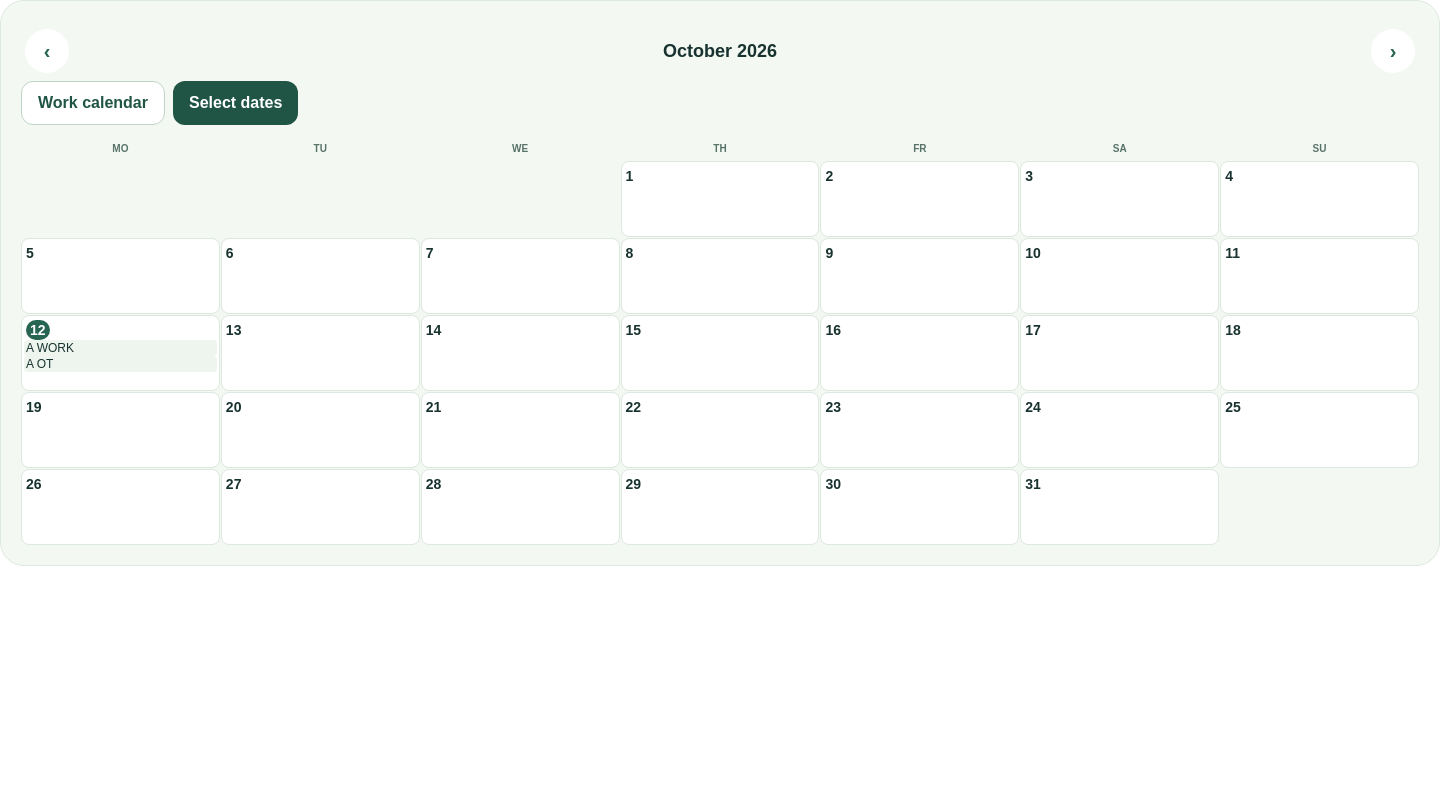
Test: event UI › allows only participants to select dates, toggle aria-pressed, clear and cancel
What coordinates should you click on to do the following:
click the button "Select dates"
I would click on:
 (236, 103)
Its box is [173, 81, 298, 125].
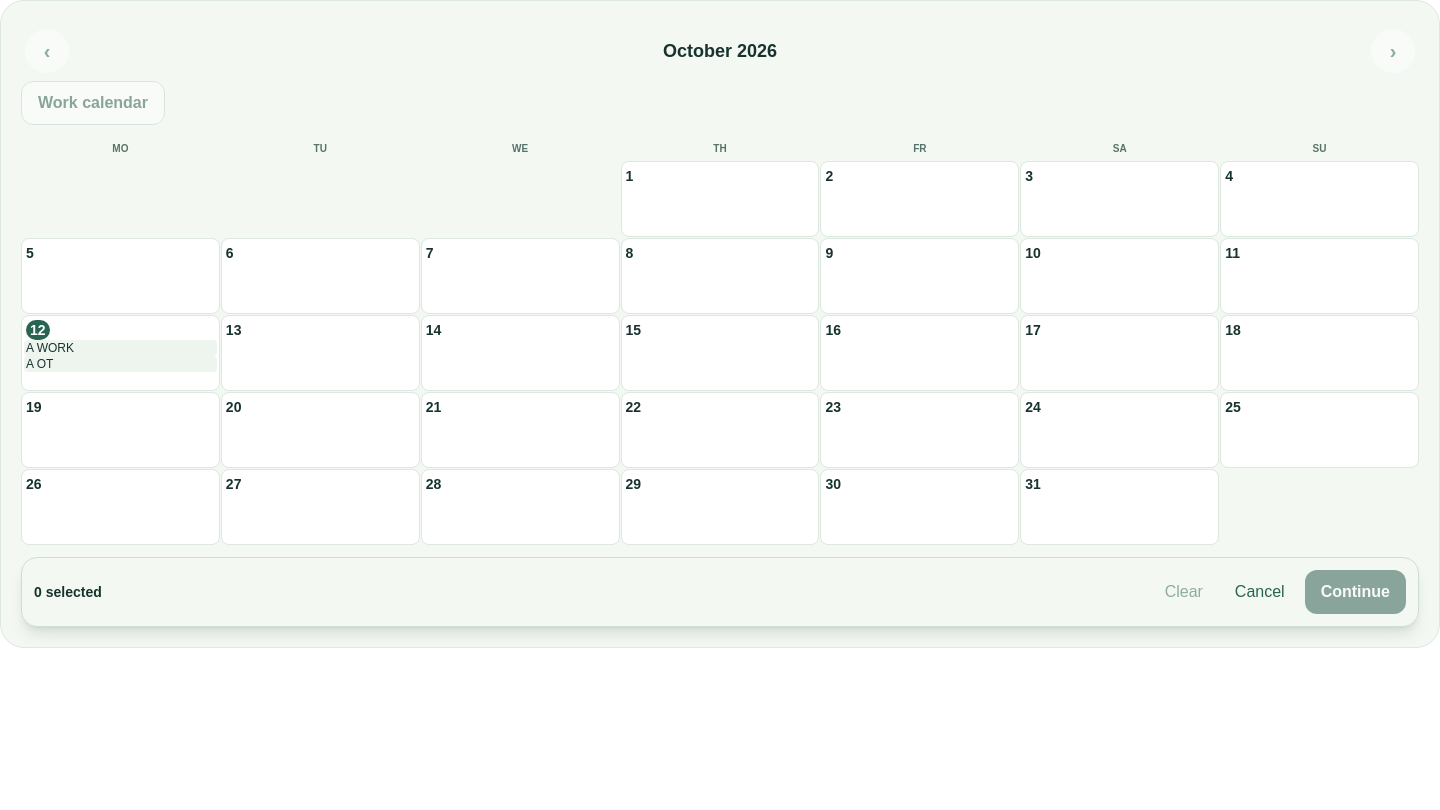
Expected: the button named "Next month" is disabled, [1371, 29, 1415, 73]
What coordinates should you click on to do the following:
click the button with aria-label "Select October 12, 2026"
I would click on:
 (120, 353)
Its box is [21, 315, 220, 391].
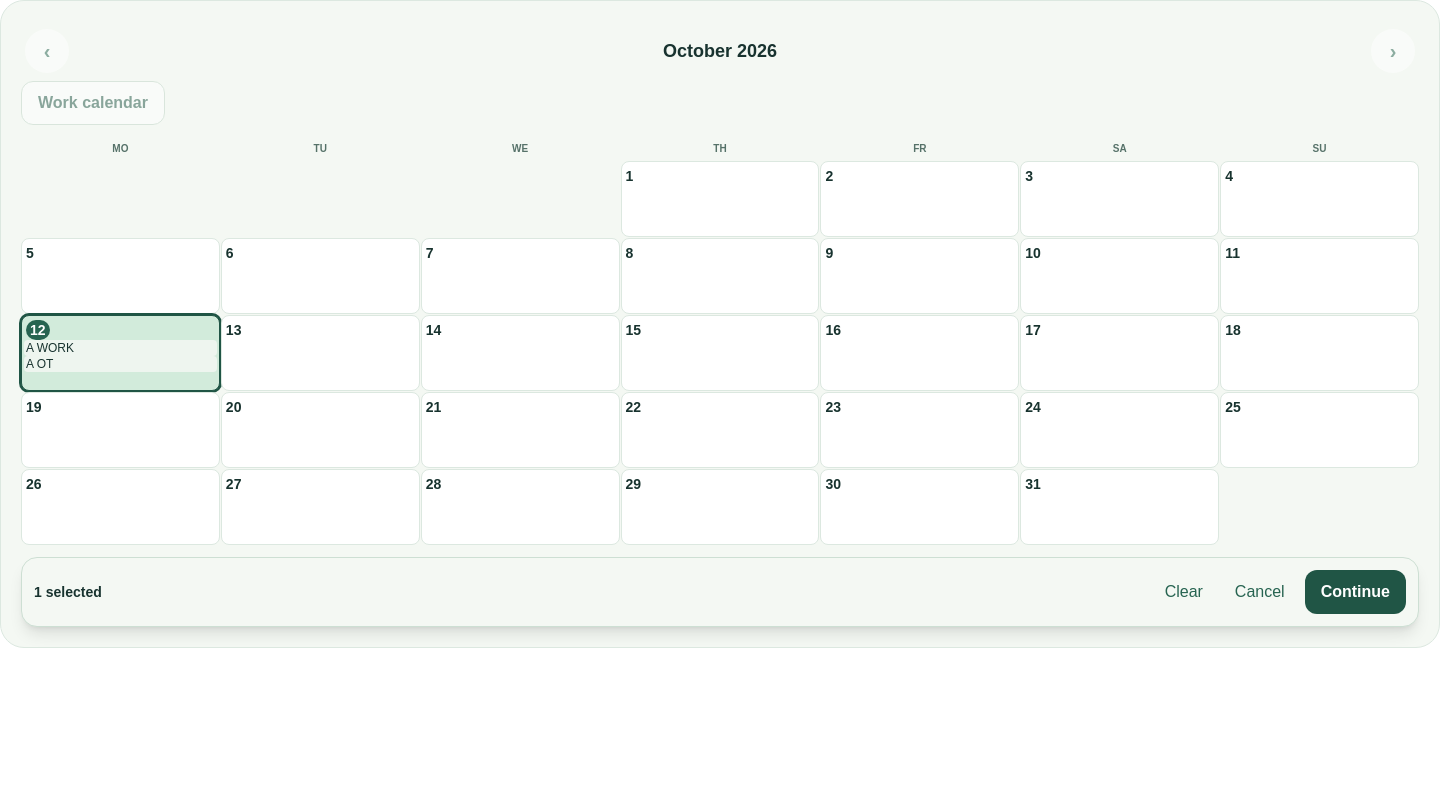
Expected: the button with aria-label "Select October 12, 2026" is pressed
What coordinates should you click on to do the following:
click the button with aria-label "Select October 12, 2026"
I would click on:
 (120, 353)
Its box is [21, 315, 220, 391].
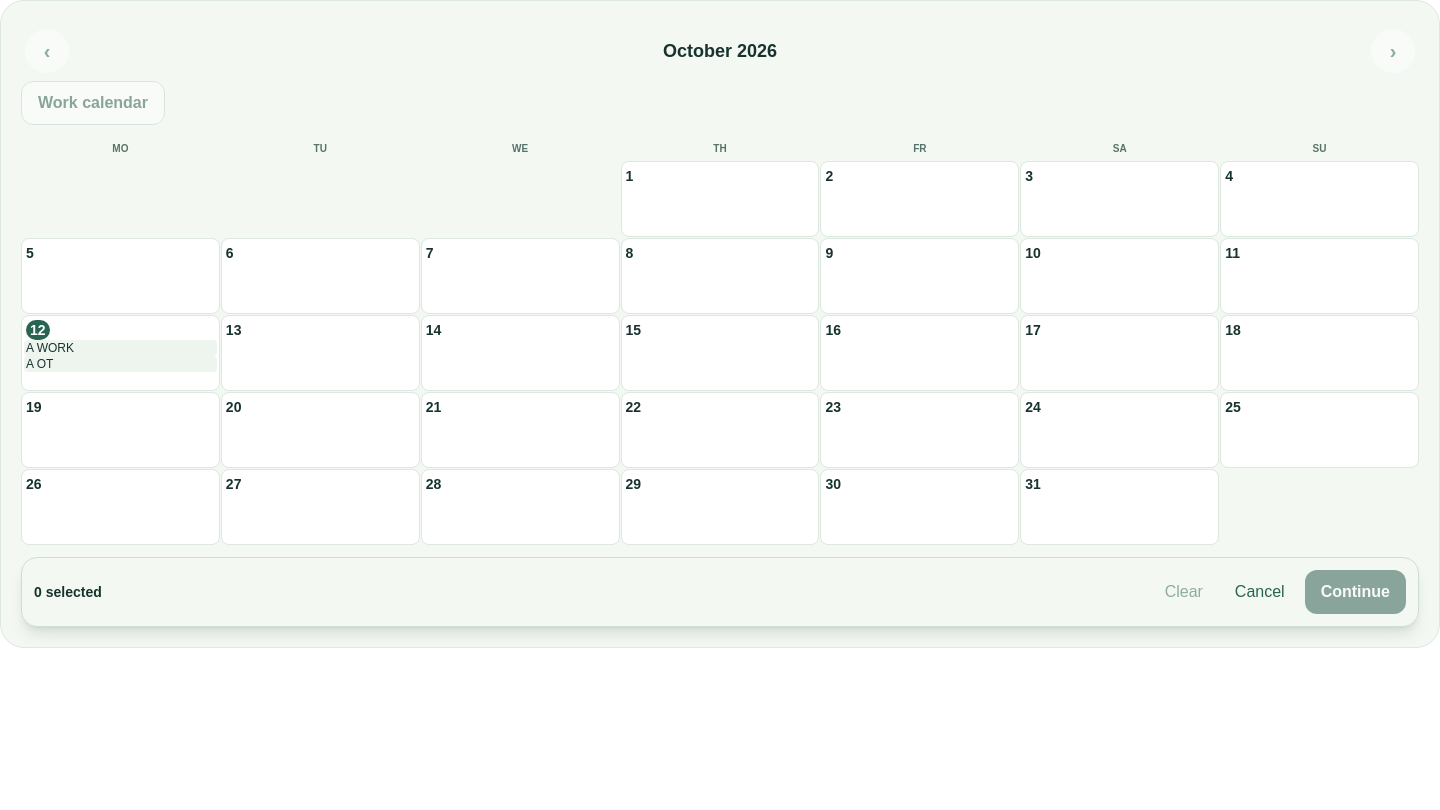
Expected: the button with aria-label "Select October 12, 2026" is not pressed
What coordinates should you click on to do the following:
click the button with aria-label "Select October 12, 2026"
I would click on:
 (120, 353)
Its box is [21, 315, 220, 391].
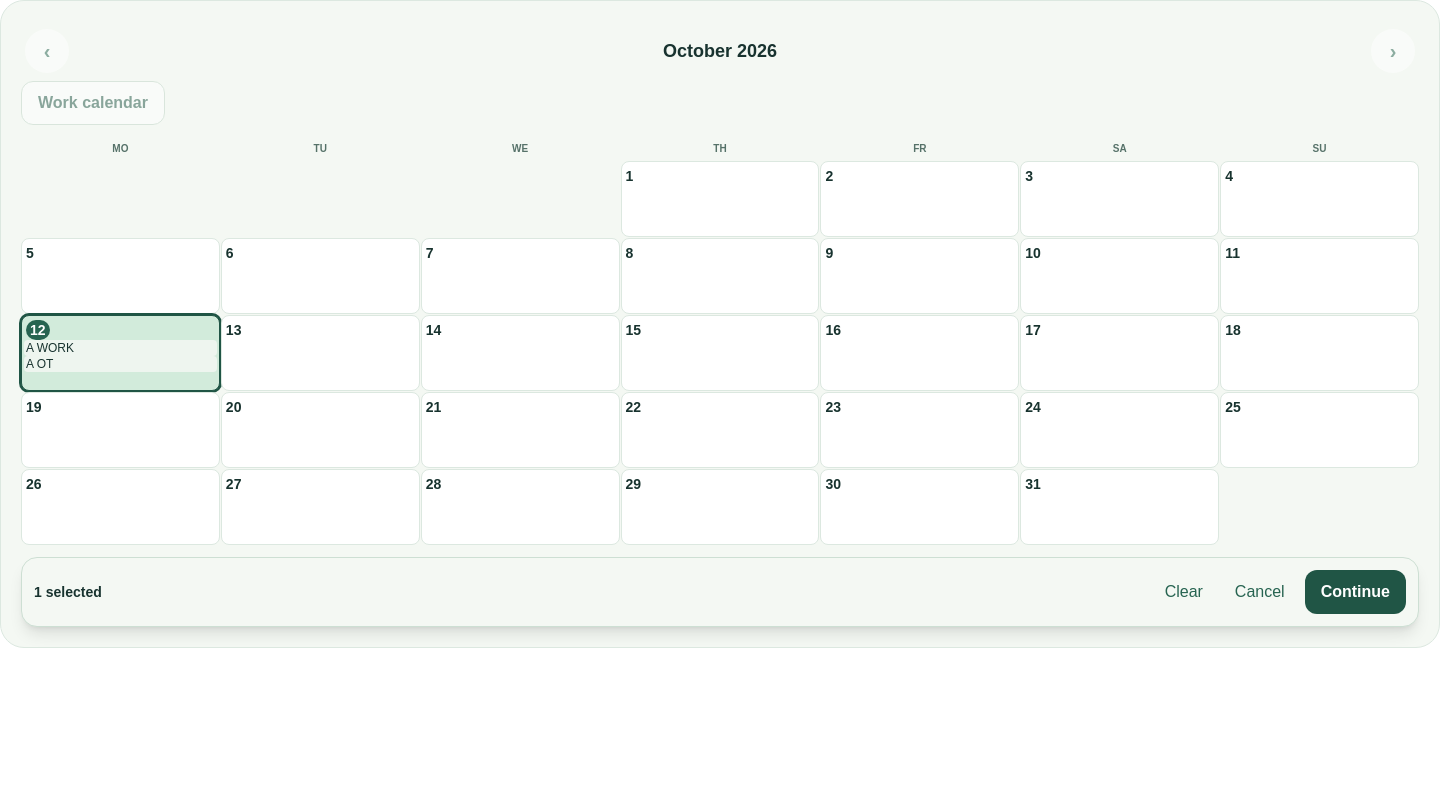
What coordinates should you click on to do the following:
click the button "Clear"
I would click on:
 (1184, 592)
Its box is [1153, 570, 1215, 614].
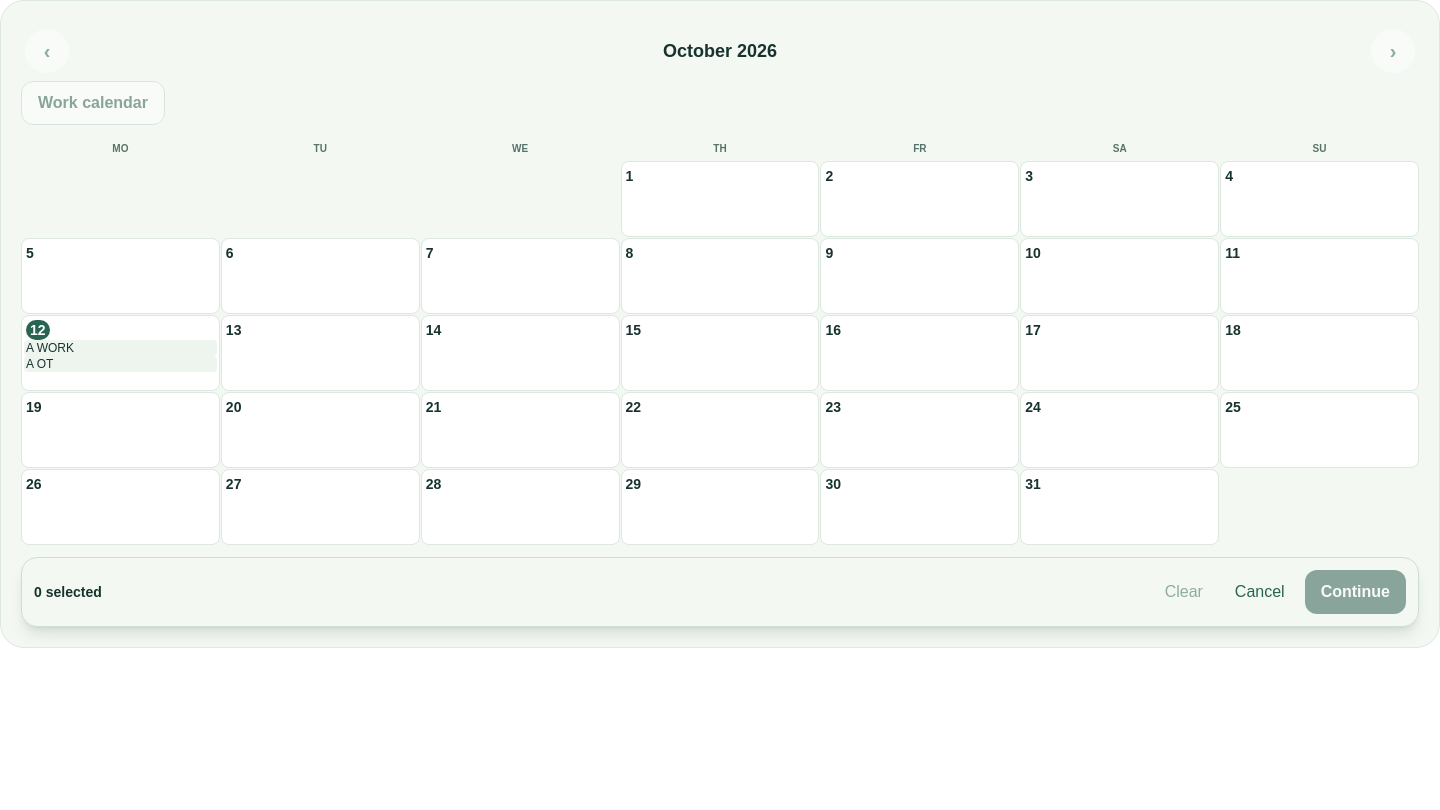
Expected: the button with aria-label "Select October 12, 2026" is not pressed, [21, 315, 220, 391]
What coordinates should you click on to do the following:
click the button "Cancel"
I would click on:
 (1260, 592)
Its box is [1223, 570, 1297, 614].
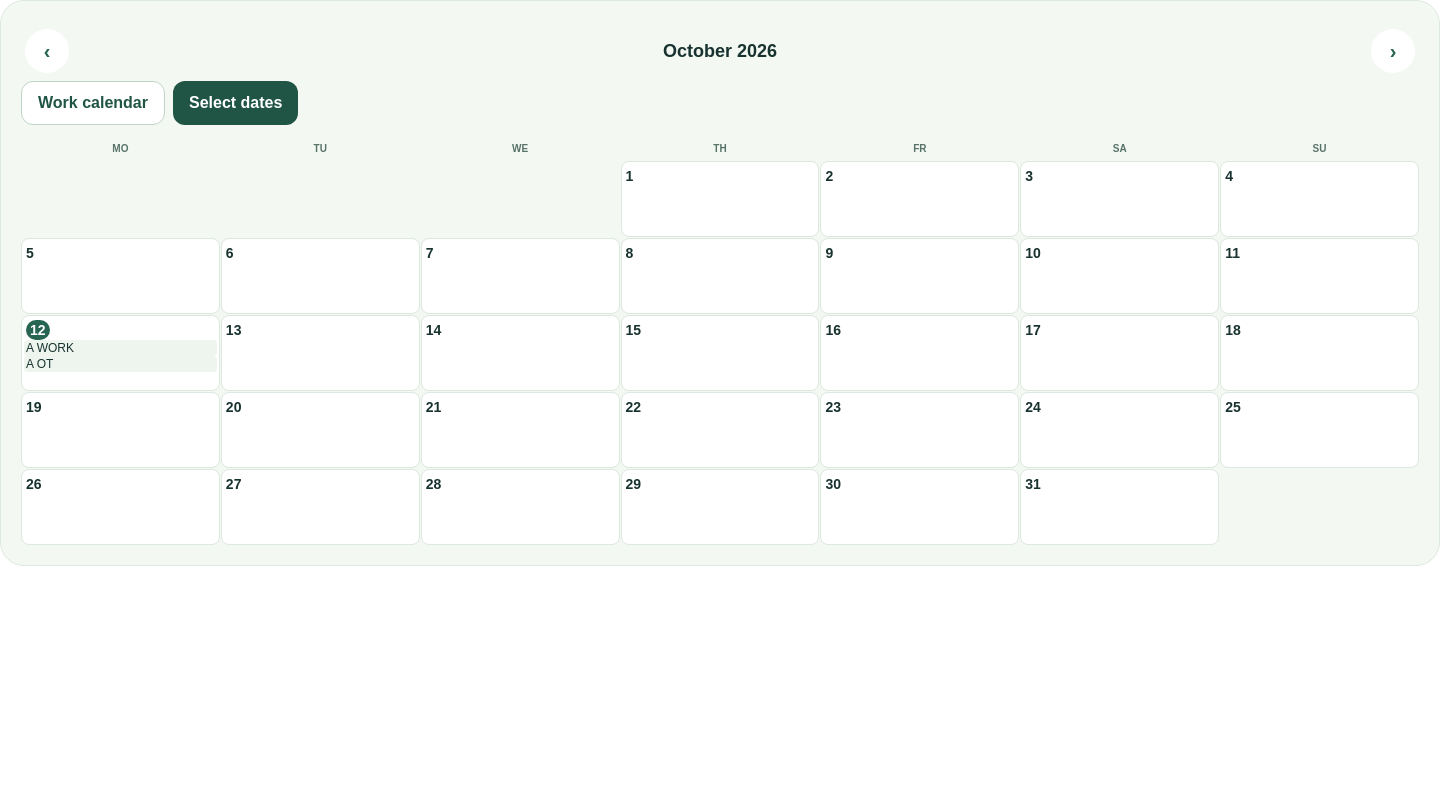
Expected: the button named "Next month" is enabled, [1371, 29, 1415, 73]
Expected: the button "Continue" is gone
